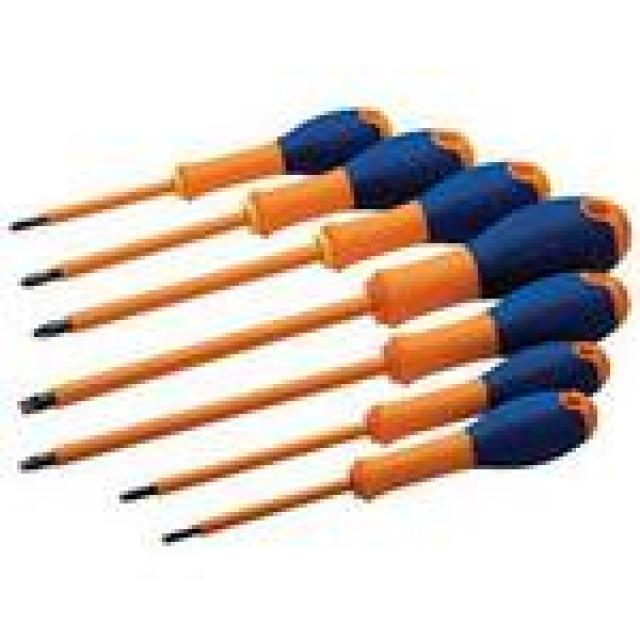screwdriver: (2, 195, 632, 418), (8, 264, 636, 476), (16, 154, 559, 334), (116, 331, 631, 513), (138, 387, 606, 570), (3, 120, 484, 288), (0, 98, 386, 242)
